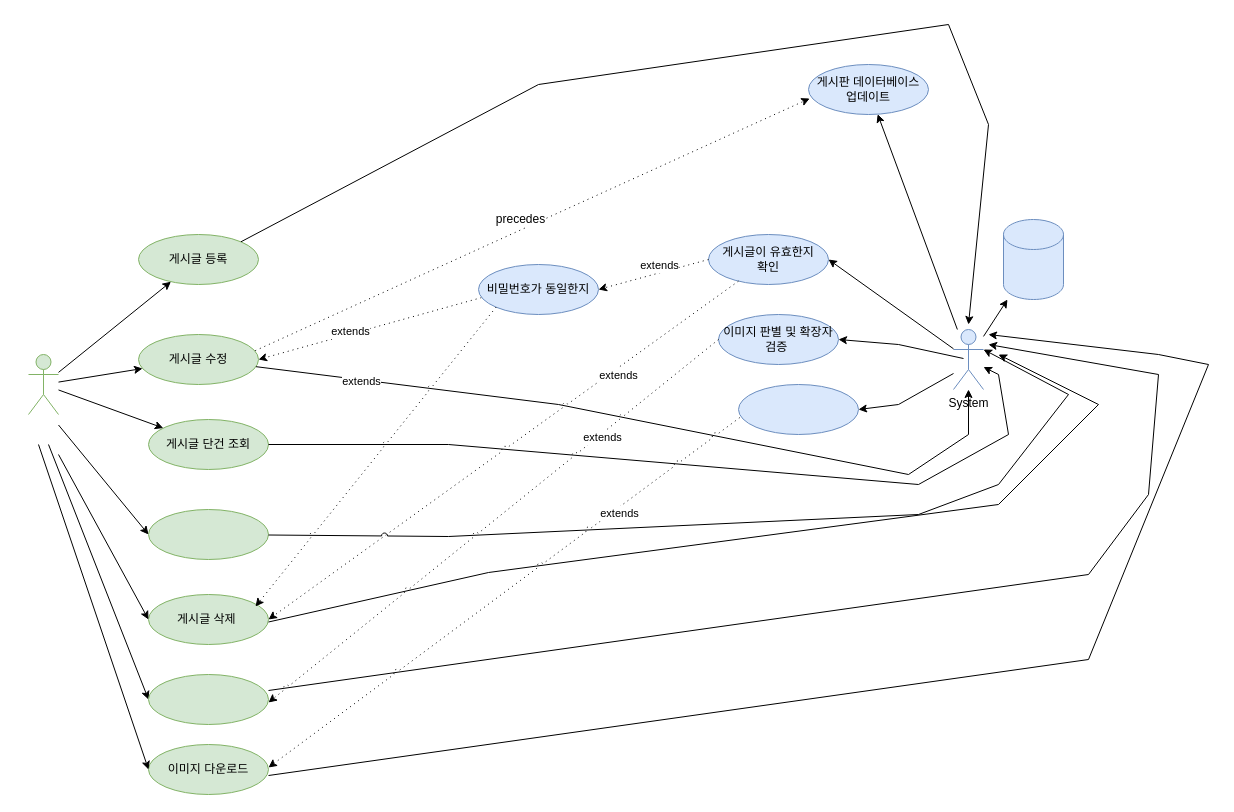
The diagram is 1234 pixels wide and 812 high, and some of its shapes have lost their labels. Here are the shapes that lost their labels. From the top down, the centre of each, then its label:
pixel 1033 259: Database
pixel 43 384: Customer
pixel 798 409: 이미지가 유효한지 확인
pixel 208 534: 게시글 다건 조회
pixel 208 699: 이미지 업로드
